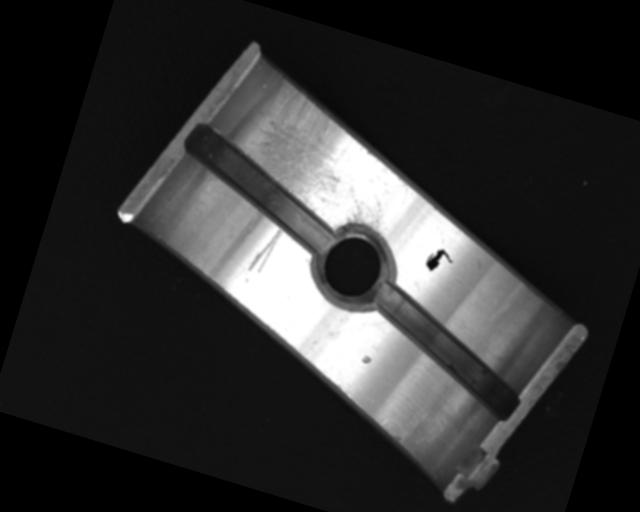blot: (423, 245, 456, 278)
bruise: (360, 353, 374, 366)
gap: (348, 277, 541, 422), (166, 121, 352, 256)
hole: (303, 213, 405, 316)
nick: (245, 220, 283, 279)
scratch: (240, 75, 423, 237)
